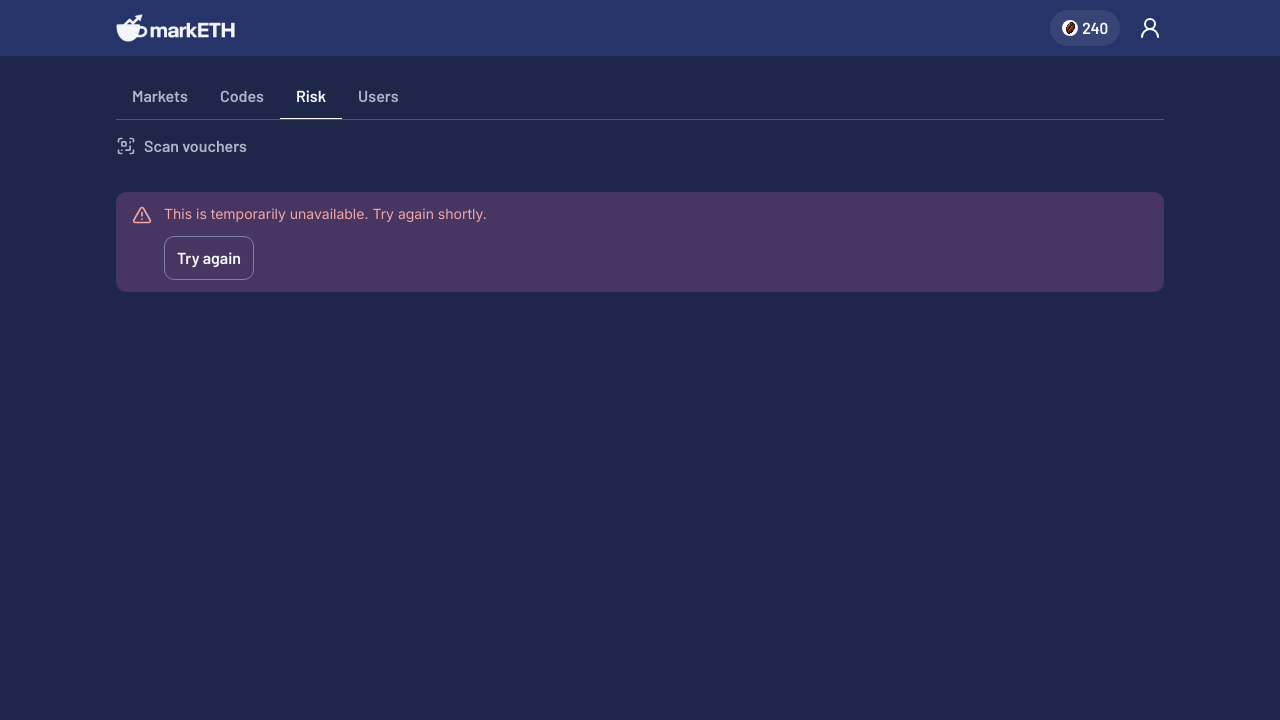
Test case: Admin: risk › a page that cannot be read shows the API's message with Try again
Expected: the message shows "This is temporarily unavailable. Try again shortly.", x1=164 y1=205 x2=487 y2=222
Click the button "Try again" at (209, 258), box x1=164 y1=236 x2=254 y2=280
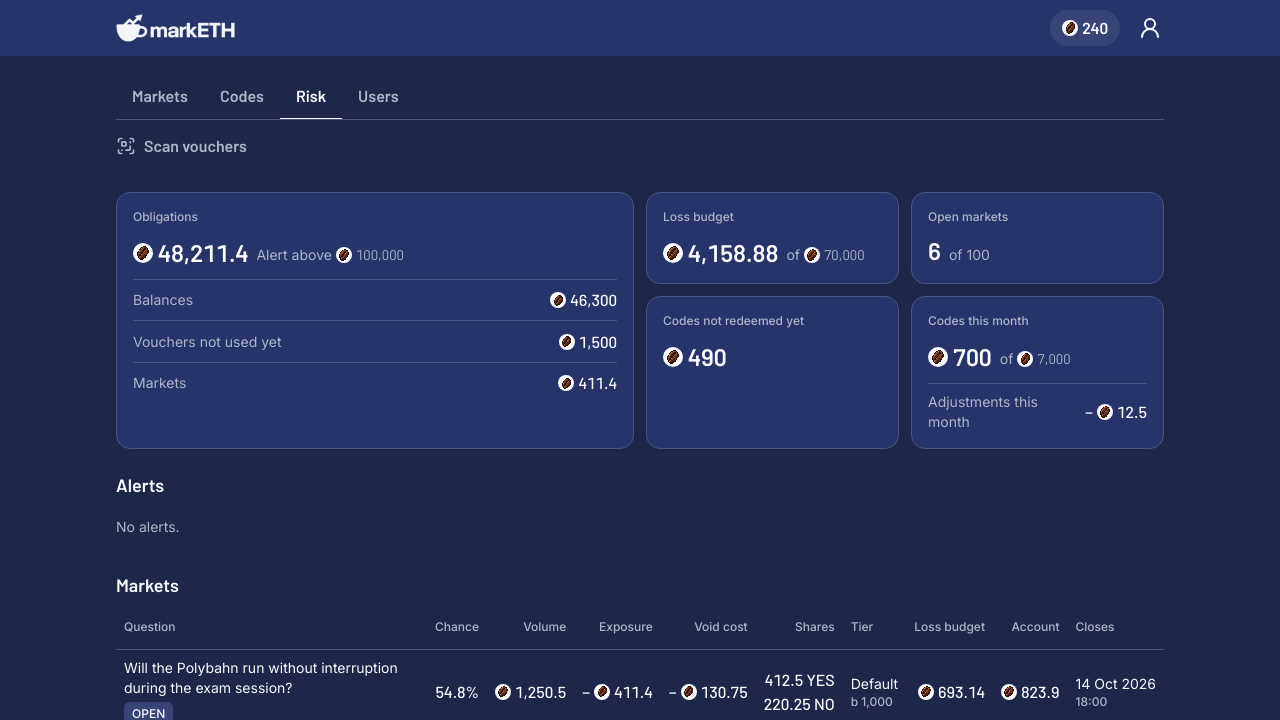
Expected: the element "Obligations" is shown, x1=116 y1=192 x2=634 y2=449
Expected: the message "This is temporarily unavailable. Try again shortly. Try again" is gone
